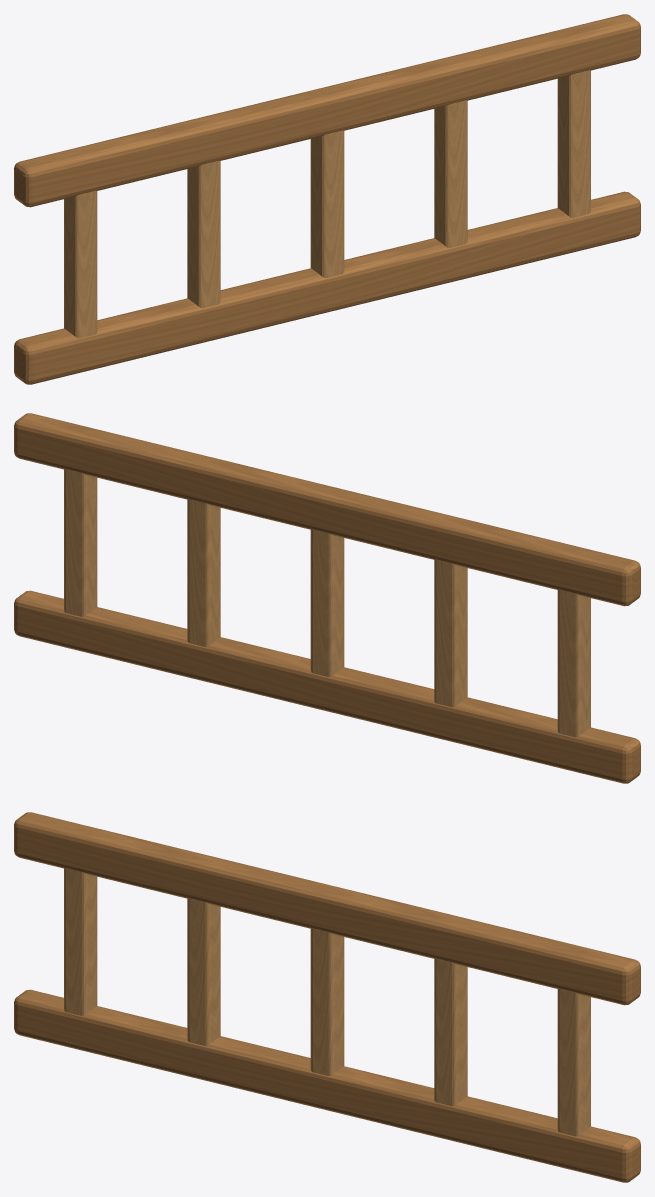
Rendered from fence-rail.glb.
3 renders of one model, top to bottom at view 1: azimuth 30°, elevation 25°; view 2: azimuth 150°, elevation 25°; view 3: azimuth 330°, elevation 25°, orthographic.
Parts seen in each view (by area): view 1: fence_rail; view 2: fence_rail; view 3: fence_rail.
Boxes of the visible parts, left/top/right/bottom form: fence_rail: left=14, top=14, right=640, bottom=384; fence_rail: left=14, top=413, right=640, bottom=783; fence_rail: left=14, top=812, right=640, bottom=1182.
Size of the model in its own units: 2 by 0.67 by 0.085.
Materials: 2 (2 with a texture image).
